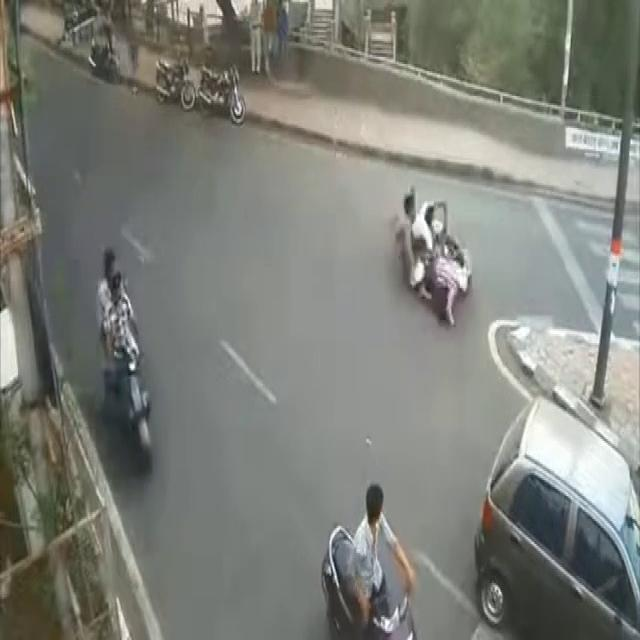accident: (401, 184, 480, 335)
